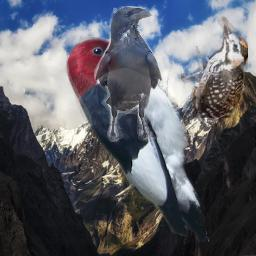Crow: (94, 6, 164, 142)
Woodpecker: (65, 34, 224, 242), (181, 16, 248, 118)
